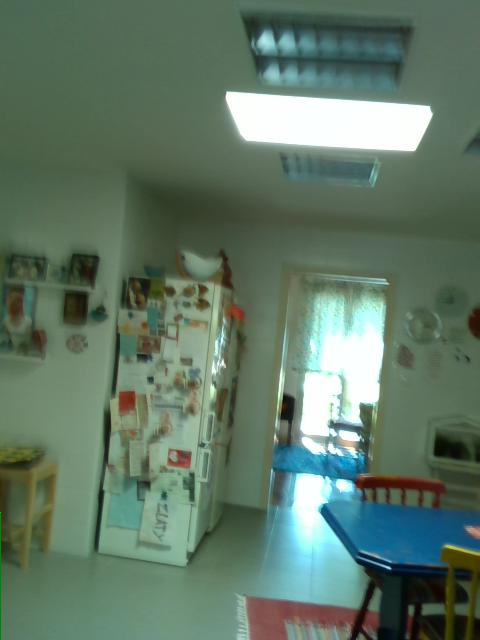open_door: (255, 261, 400, 529)
